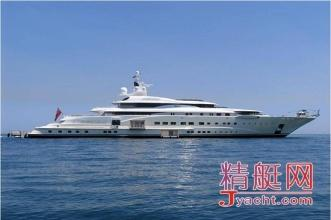yacht: (23, 72, 320, 140)
